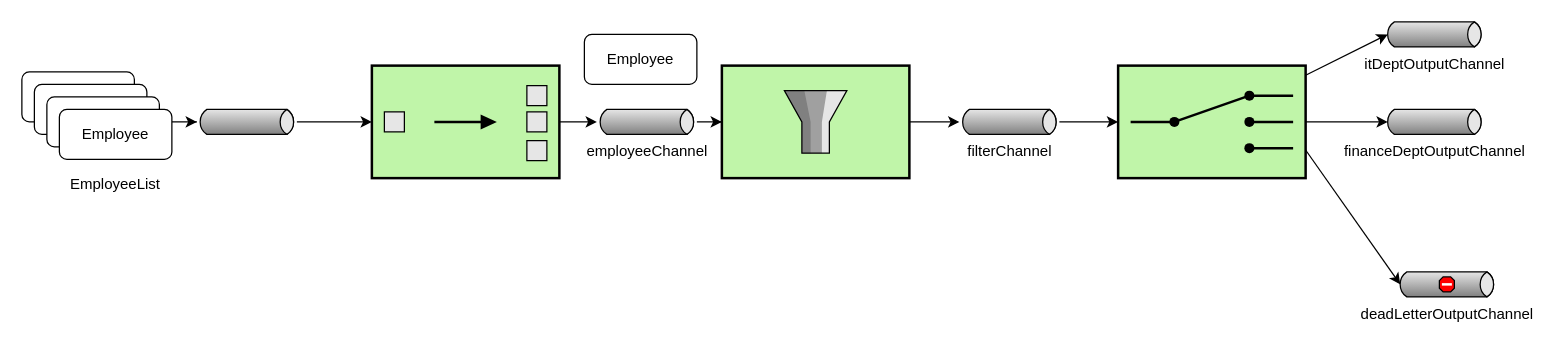
Image size: 1555x345. Some labels were removed from this diagram. The box of each missing label's shape, as (x1, y1, x2, y2) in pixels:
filter: (720, 64, 910, 179)
inputChannel: (196, 108, 297, 134)
router: (1116, 64, 1306, 179)
splitter: (370, 64, 560, 179)
